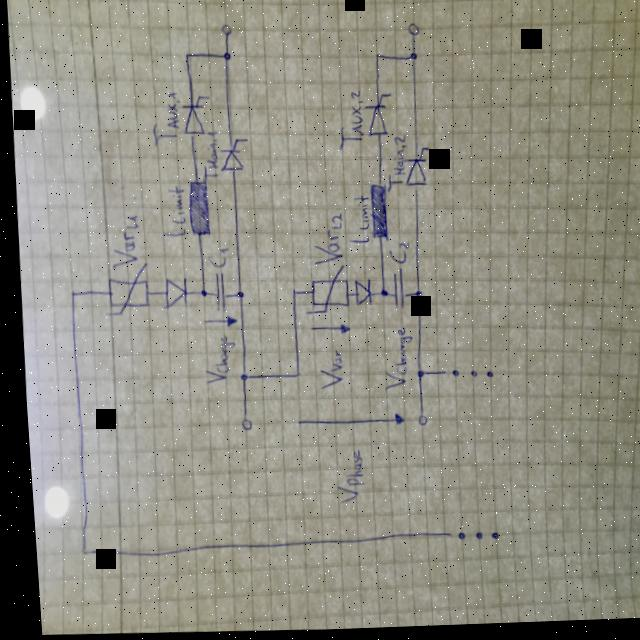capacitor: (207, 274, 222, 316), (386, 270, 401, 312)
diode: (155, 276, 184, 312), (347, 280, 367, 310)
inductor: (181, 181, 207, 240), (363, 185, 385, 246)
junction: (407, 369, 420, 385), (218, 50, 229, 64), (405, 54, 416, 68), (407, 291, 418, 304), (232, 373, 243, 385), (230, 290, 240, 303), (70, 545, 79, 559), (194, 289, 203, 301), (180, 51, 189, 63), (372, 291, 382, 301), (64, 288, 72, 300), (369, 54, 378, 64), (285, 289, 293, 299), (286, 374, 295, 382)
terminal: (435, 369, 454, 384), (403, 25, 418, 41), (233, 415, 246, 433), (438, 534, 457, 546), (218, 23, 230, 40), (409, 414, 421, 430)
text: (373, 328, 409, 396), (331, 92, 363, 155), (103, 213, 137, 272), (305, 214, 341, 269), (147, 91, 181, 149), (325, 450, 359, 508), (195, 335, 231, 389), (379, 138, 407, 197), (154, 186, 184, 240), (341, 197, 366, 248), (195, 131, 217, 185), (310, 352, 337, 393), (382, 243, 405, 270), (201, 247, 225, 272)
thyristor: (398, 148, 427, 197), (358, 96, 388, 142), (176, 95, 206, 140), (213, 138, 242, 177)
